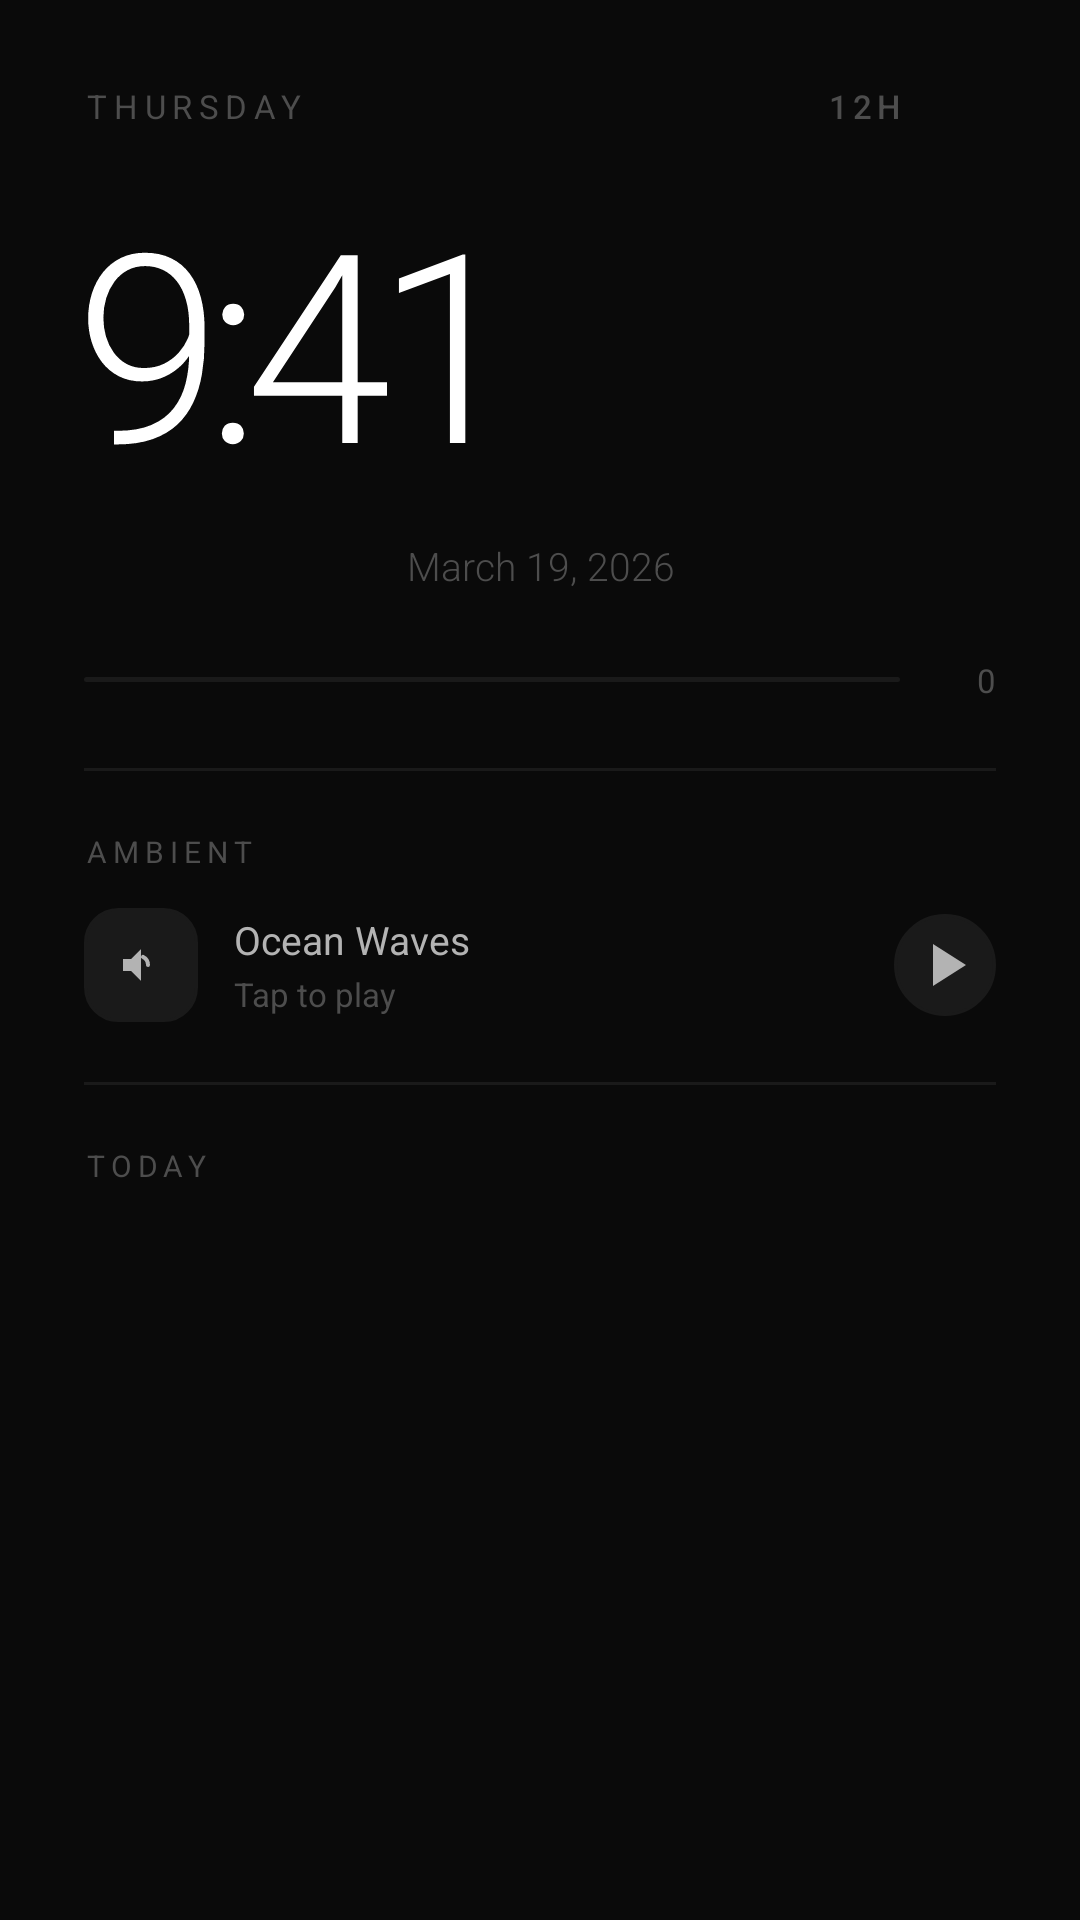

Icons on this 1080×1920 Android screen, each with its box as bbox(x1, y1, x2, y2):
sound: bbox(123, 949, 150, 981)
